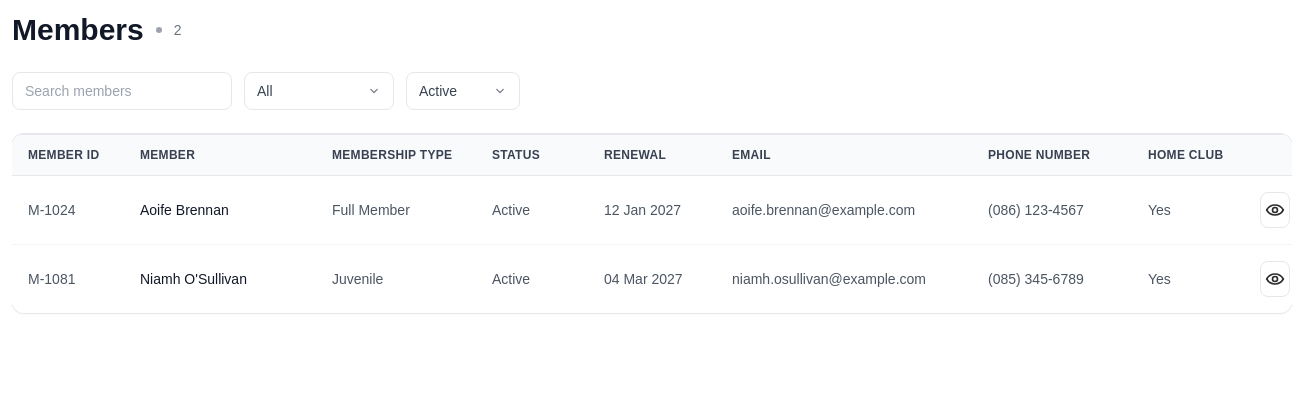
Test case: MembersPage › rendering › should show all members when the status filter is switched to all
The width and height of the screenshot is (1304, 400).
Select "All" in the dropdown named "filter by status": (463, 91) [406, 72, 520, 110]
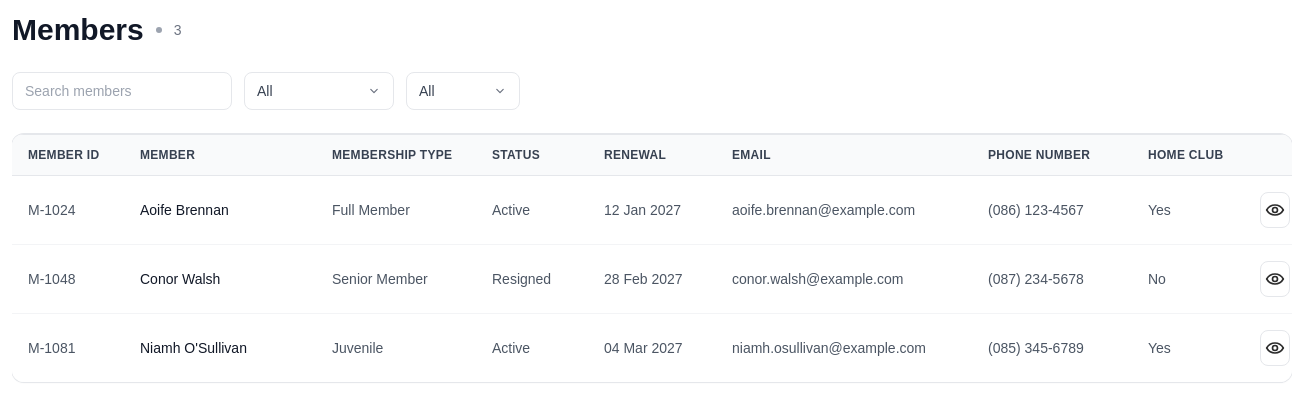
Expected: the text "Aoife Brennan" is shown, [124, 176, 316, 244]
Now the text "Conor Walsh" is shown, box [124, 244, 316, 314]
